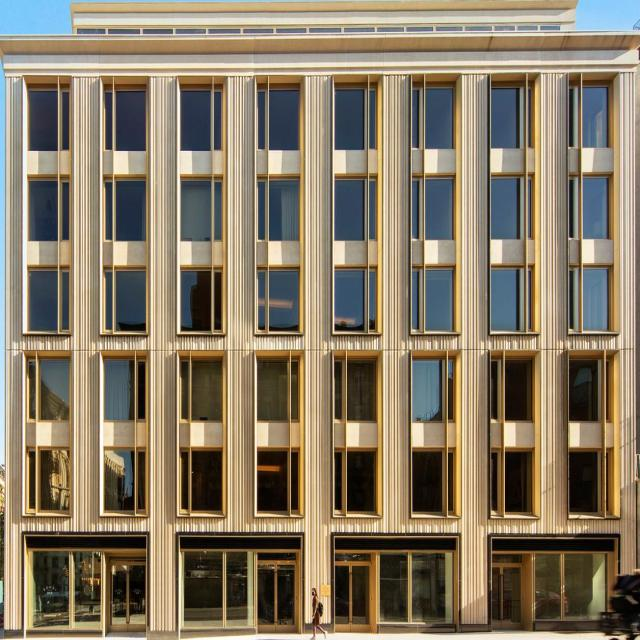door: (186, 547, 297, 629), (36, 551, 148, 632), (494, 554, 612, 630), (336, 554, 454, 629)
window: (565, 266, 611, 337), (181, 267, 227, 334), (334, 173, 378, 239), (29, 359, 73, 425), (103, 179, 149, 242), (414, 357, 457, 423), (107, 87, 149, 154), (31, 272, 73, 339), (491, 271, 534, 336), (258, 268, 301, 332), (569, 176, 611, 241), (259, 176, 301, 241), (104, 450, 147, 513), (337, 452, 379, 516), (30, 452, 72, 516), (337, 89, 380, 151), (414, 179, 457, 241), (102, 269, 145, 331), (335, 273, 378, 335), (334, 363, 379, 421), (182, 180, 224, 242), (413, 271, 455, 333), (415, 90, 457, 151), (492, 180, 534, 241), (29, 91, 72, 150), (183, 94, 225, 154), (572, 364, 612, 427), (415, 454, 456, 515), (263, 91, 303, 153), (30, 181, 71, 241), (572, 90, 614, 148), (258, 457, 300, 515), (256, 364, 300, 419), (104, 358, 144, 418), (492, 456, 532, 515), (491, 363, 531, 422), (493, 90, 532, 149), (183, 362, 221, 422), (183, 455, 223, 511), (570, 457, 610, 511)
